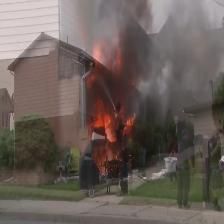smoke: (85, 0, 224, 123)
